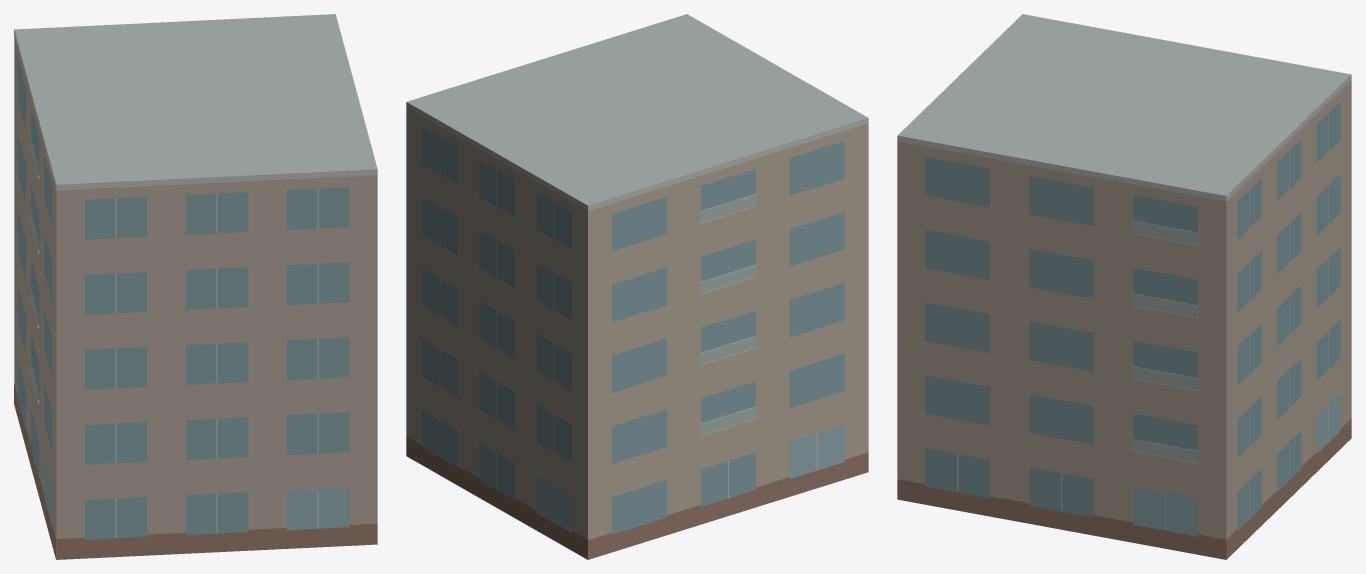
The model's file is survey-upis-32902241.glb.
The picture shows the model from 3 angles, left to right: view 1: azimuth 30°, elevation 25°; view 2: azimuth 150°, elevation 25°; view 3: azimuth 270°, elevation 25°; orthographic projection. The views are drawn at different scales.
Visible parts, largest first — view 1: survey-upis-32902241.tmp; view 2: survey-upis-32902241.tmp; view 3: survey-upis-32902241.tmp.
Boxes of the visible parts, x1,y1,x2,y2 form: survey-upis-32902241.tmp: (14, 14, 377, 559); survey-upis-32902241.tmp: (406, 14, 868, 559); survey-upis-32902241.tmp: (897, 14, 1351, 559).
Size of the model in its own units: 16.63 by 15.5 by 17.54.
